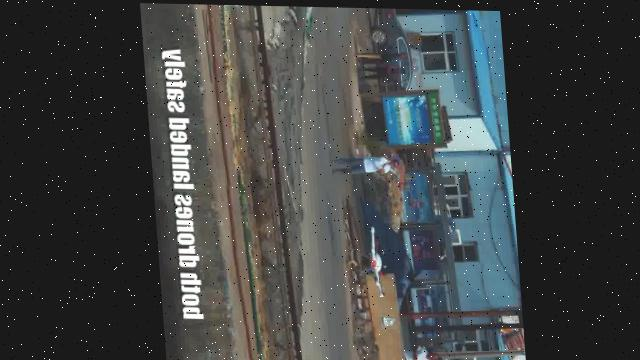drone: (359, 224, 387, 298)
